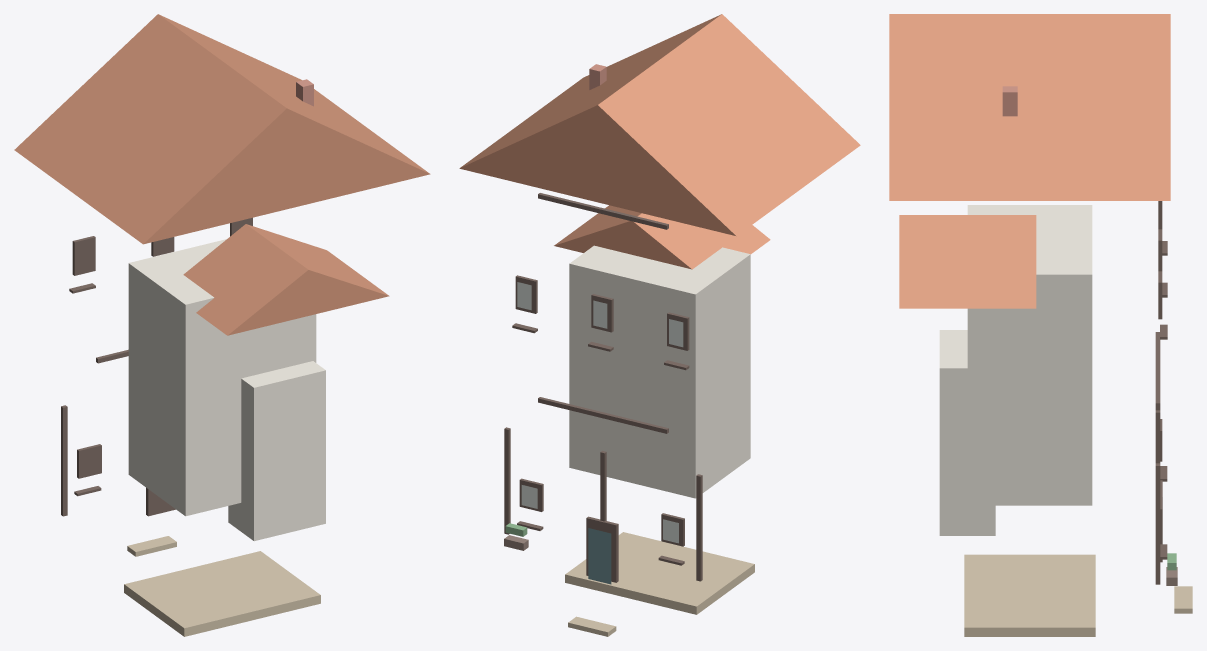
The model's file is ravnbro-house-cream-01.glb.
3 views of the same model, side by side, from view 1: azimuth 30°, elevation 25°; view 2: azimuth 150°, elevation 25°; view 3: azimuth 270°, elevation 25° (orthographic). The views are drawn at different scales.
Parts seen in each view (by area): view 1: roof, body, wing, wing_roof, plinth, uwf_1_-0.85, up_-1.08, wf_-0.80, step; view 2: roof, body, plinth, wing_roof, door, door_frame, beam_2, beam_1, up_-1.08, up_1.08, step; view 3: roof, body, wing_roof, plinth, wing, up_1.08, step, chimney, beam_1.
Boxes of the visible parts, x1=… form: roof: x1=14, y1=14, x2=430, y2=244; body: x1=128, y1=239, x2=316, y2=516; wing: x1=228, y1=361, x2=325, y2=541; wing_roof: x1=183, y1=224, x2=389, y2=335; plinth: x1=124, y1=551, x2=320, y2=636; uwf_1_-0.85: x1=72, y1=236, x2=95, y2=275; up_-1.08: x1=61, y1=405, x2=67, y2=516; wf_-0.80: x1=77, y1=444, x2=101, y2=478; step: x1=127, y1=536, x2=176, y2=556; roof: x1=459, y1=14, x2=860, y2=236; body: x1=569, y1=245, x2=750, y2=498; plinth: x1=565, y1=532, x2=754, y2=614; wing_roof: x1=554, y1=205, x2=770, y2=269; door: x1=588, y1=528, x2=611, y2=584; door_frame: x1=586, y1=516, x2=618, y2=582; beam_2: x1=538, y1=193, x2=668, y2=229; beam_1: x1=538, y1=397, x2=668, y2=433; up_-1.08: x1=696, y1=474, x2=702, y2=581; up_1.08: x1=504, y1=427, x2=510, y2=534; step: x1=568, y1=616, x2=616, y2=636; roof: x1=889, y1=14, x2=1170, y2=200; body: x1=967, y1=205, x2=1092, y2=505; wing_roof: x1=899, y1=215, x2=1036, y2=308; plinth: x1=964, y1=554, x2=1095, y2=636; wing: x1=939, y1=330, x2=995, y2=535; up_1.08: x1=1155, y1=463, x2=1160, y2=584; step: x1=1174, y1=586, x2=1192, y2=613; chimney: x1=1002, y1=86, x2=1017, y2=116; beam_1: x1=1155, y1=332, x2=1160, y2=407.
Size of the model in its own units: 3.13 by 5.61 by 2.62.
